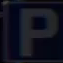Parking: (8, 5, 58, 53)
